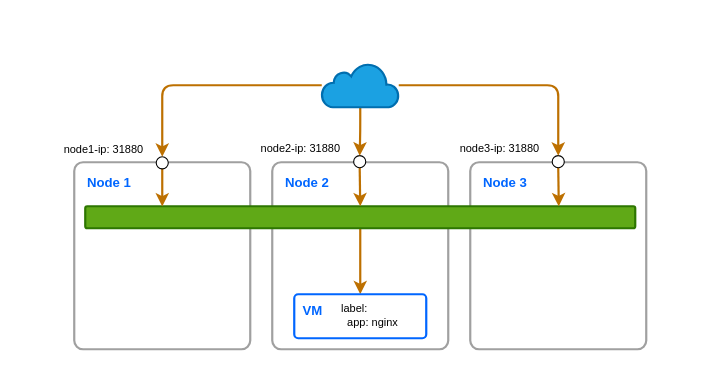
The diagram is 719 pixels wide and 378 high, and some of its shapes have lost their labels. Here are the shapes that lost their labels. From the top down, the centre of each, then its label:
(x=359, y=85): Network
(x=360, y=217): Service / type=NodePort
